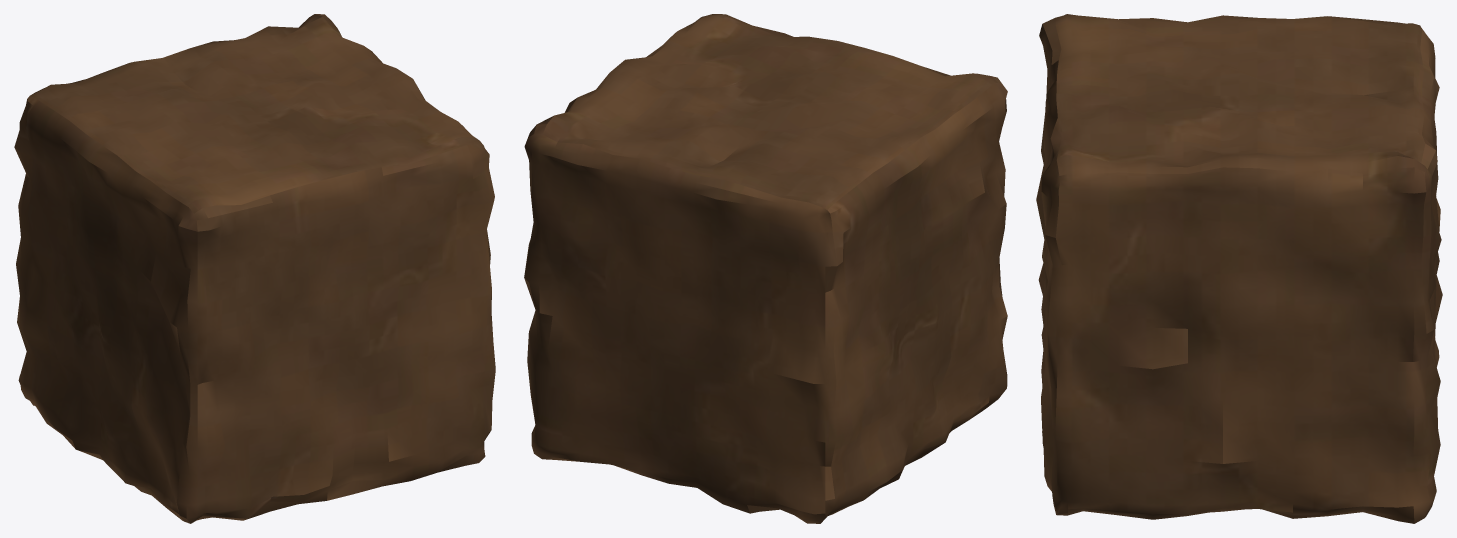
The model's file is dirt.fbx.
The picture shows the model from 3 angles, left to right: view 1: azimuth 30°, elevation 25°; view 2: azimuth 150°, elevation 25°; view 3: azimuth 270°, elevation 25°; orthographic projection. The views are drawn at different scales.
Parts seen in each view (by area): view 1: Dirt; view 2: Dirt; view 3: Dirt.
Boxes of the visible parts, x1=… form: Dirt: x1=14, y1=14, x2=495, y2=523; Dirt: x1=524, y1=14, x2=1007, y2=523; Dirt: x1=1036, y1=14, x2=1442, y2=523.
Size of the model in its own units: 211 by 211 by 211.
